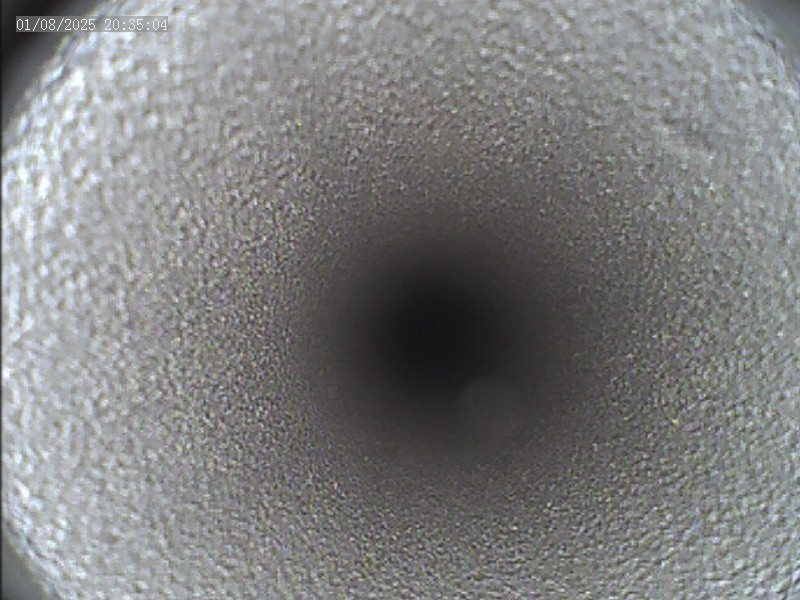defective_area: (470, 363, 543, 439)
